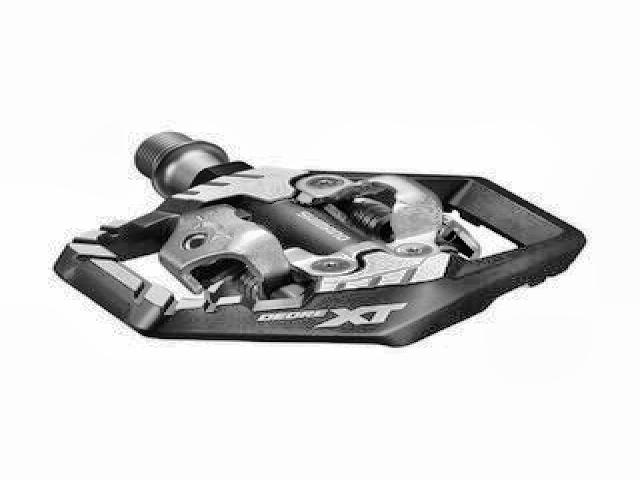pedal: (49, 126, 594, 352)
